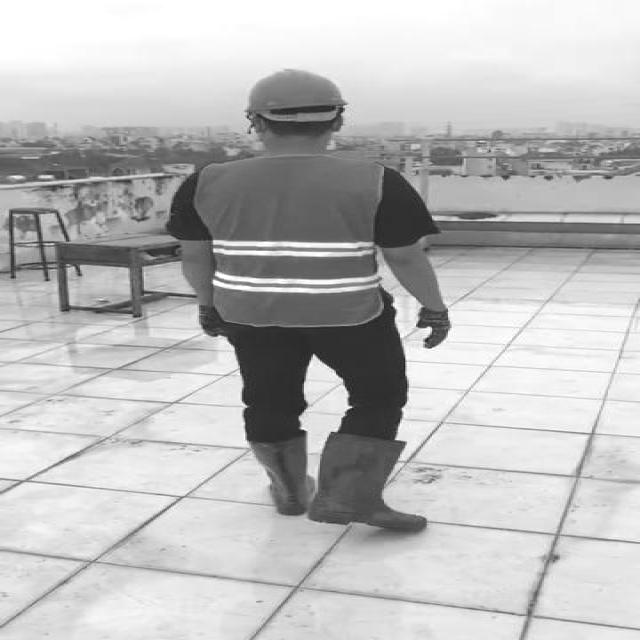boots: (306, 437, 426, 532), (243, 434, 306, 516)
hand_glove: (414, 307, 450, 349), (190, 306, 226, 337)
head_helmet: (239, 65, 358, 117)
person: (174, 62, 464, 538)
vest: (197, 156, 395, 325)
